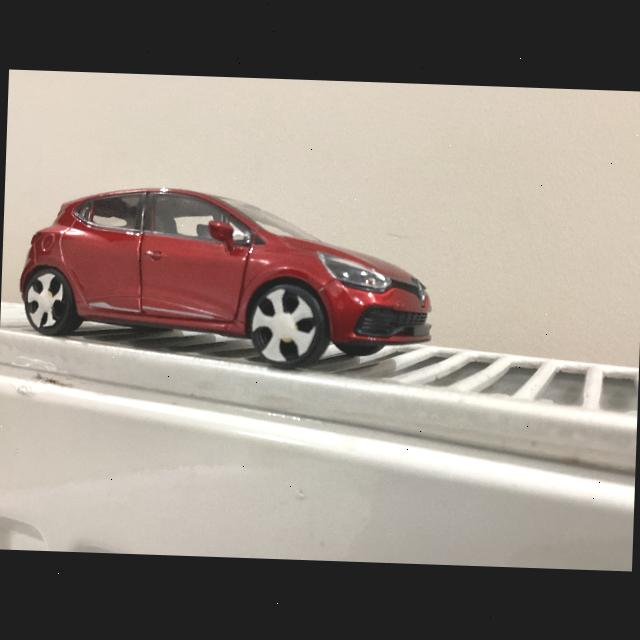Yanlis_Jant: (249, 286, 319, 362), (24, 270, 67, 328)
